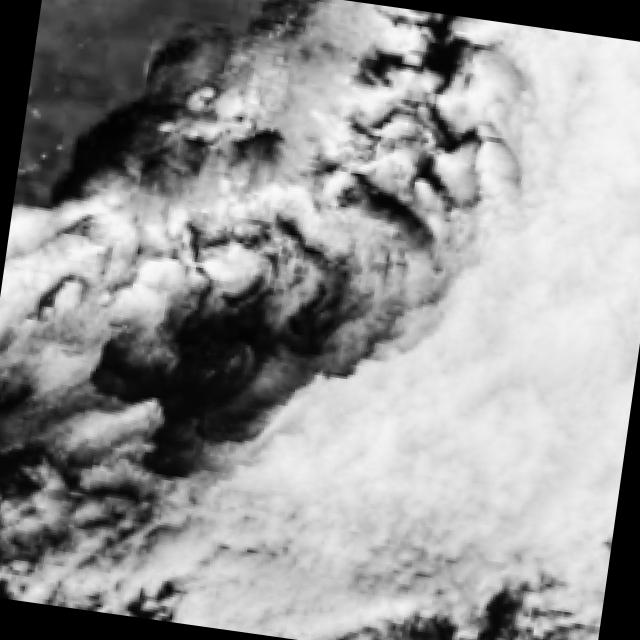CB: (423, 330, 638, 515), (493, 236, 640, 455), (312, 382, 498, 554), (518, 28, 640, 257)
